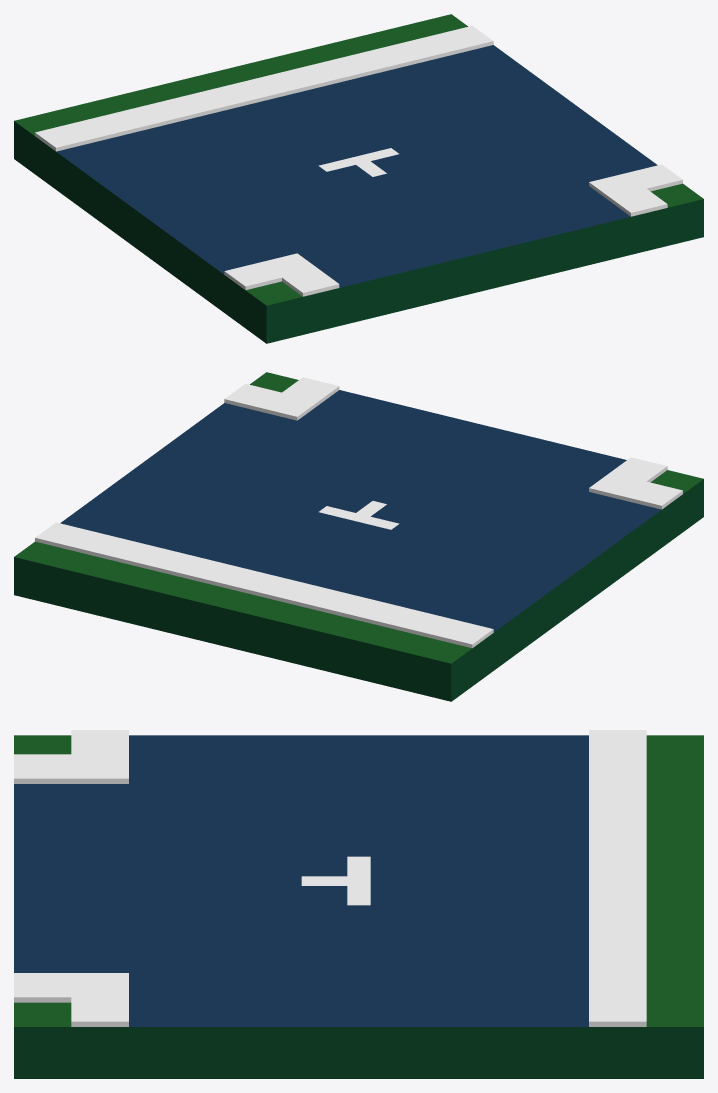
Rendered from road - T.glb.
3 views of the same model, one above another, from view 1: azimuth 30°, elevation 25°; view 2: azimuth 150°, elevation 25°; view 3: azimuth 270°, elevation 25° (orthographic). The views are drawn at different scales.
Visible parts, largest first — view 1: t-intersection; view 2: t-intersection; view 3: t-intersection.
Part boxes in pixels (x1=…): t-intersection: x1=14, y1=14, x2=703, y2=343; t-intersection: x1=14, y1=372, x2=703, y2=701; t-intersection: x1=14, y1=730, x2=703, y2=1078.
Bounding box in the file's own units: 12 × 1.1 × 12.
Materials: 1 (1 with a texture image).
